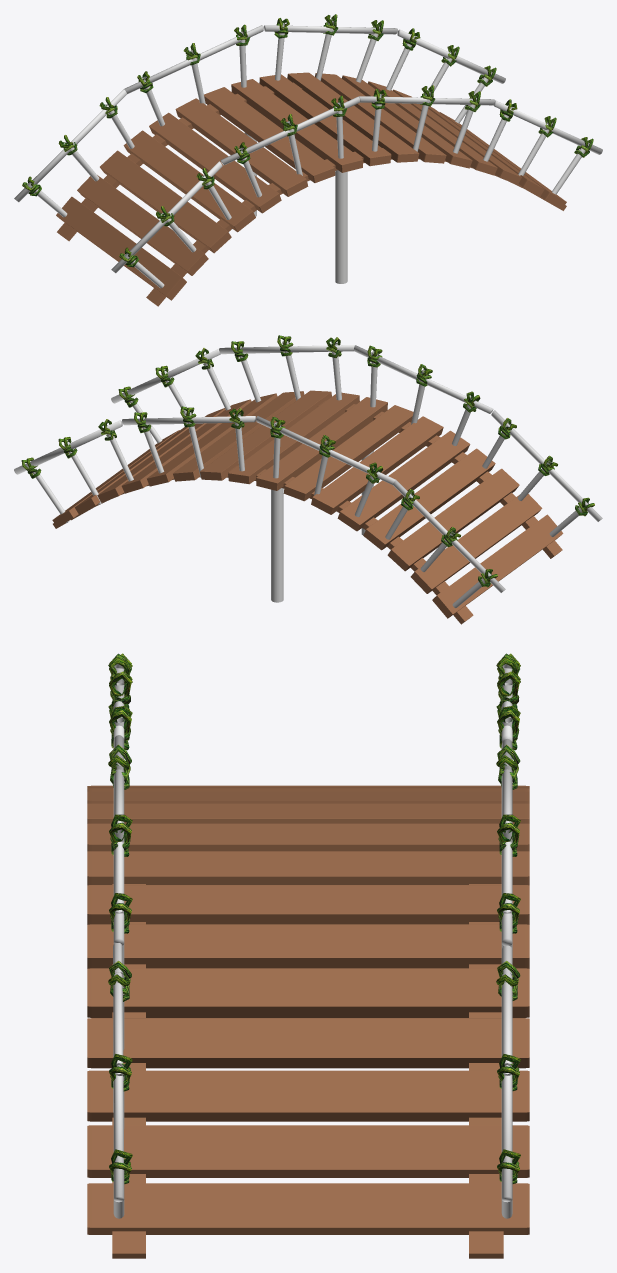
The model's file is kopru.fbx.
3 renders of one model, top to bottom at view 1: azimuth 30°, elevation 25°; view 2: azimuth 150°, elevation 25°; view 3: azimuth 270°, elevation 25°, orthographic. The views are drawn at different scales.
Parts seen in each view (by area): view 1: KOPRU; view 2: KOPRU; view 3: KOPRU.
Part boxes in pixels (left/top/right/bottom): KOPRU: left=14, top=14, right=602, bottom=306; KOPRU: left=14, top=335, right=602, bottom=624; KOPRU: left=87, top=653, right=529, bottom=1258.
Size of the model in its own units: 986 by 359 by 385.
